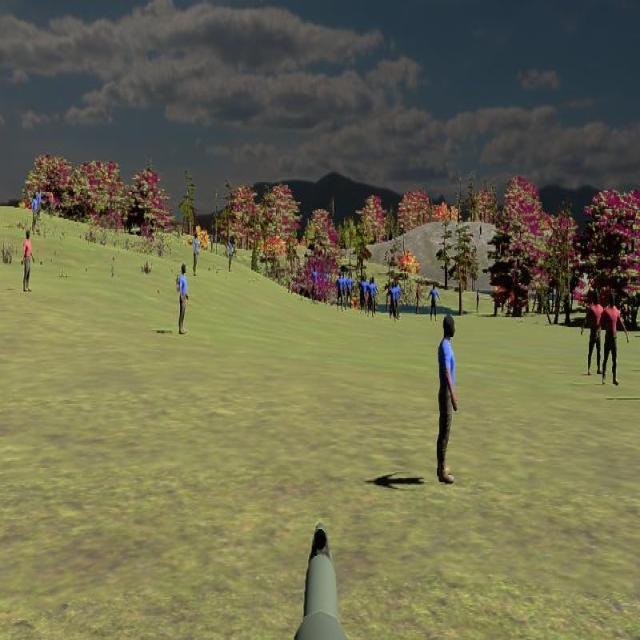Human: (437, 312, 458, 484), (597, 292, 628, 385), (582, 289, 609, 374), (22, 229, 34, 293), (388, 280, 401, 322), (427, 281, 440, 323), (334, 271, 346, 314), (367, 276, 379, 318), (357, 275, 368, 318)
